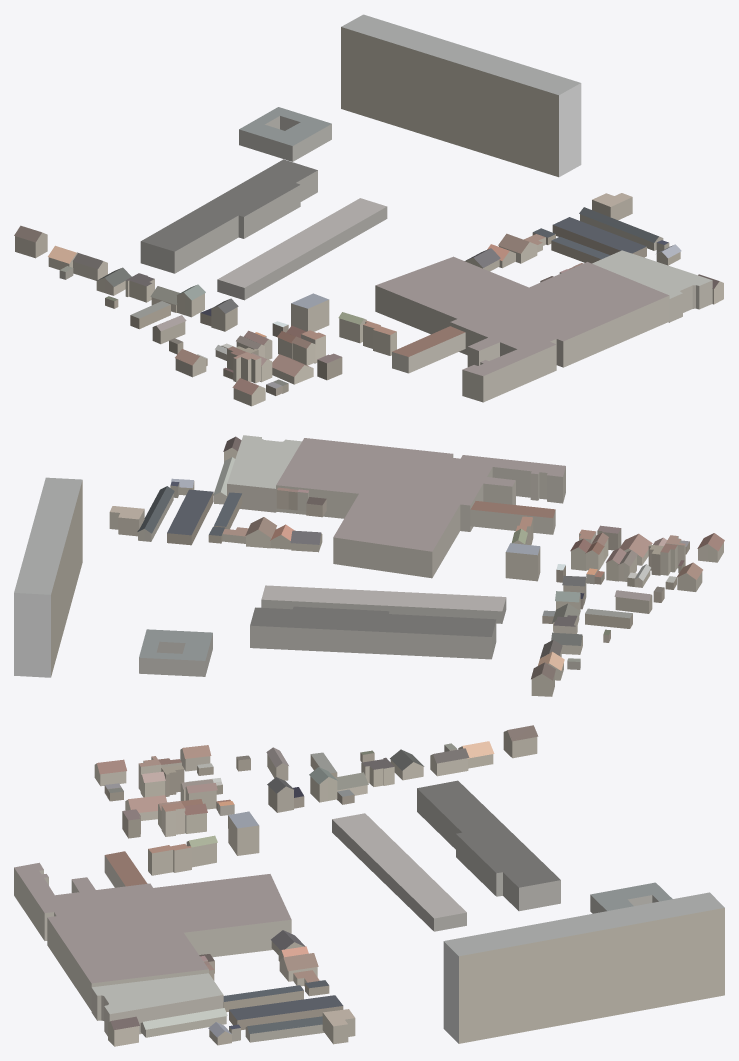
3 views of the same model, one above another, from view 1: azimuth 30°, elevation 25°; view 2: azimuth 150°, elevation 25°; view 3: azimuth 270°, elevation 25° (orthographic). The views are drawn at different scales.
Visible parts, largest first — view 1: tuile; view 2: tuile; view 3: tuile.
Part boxes in pixels (left/top/right/bottom): tuile: left=14, top=14, right=723, bottom=406; tuile: left=14, top=435, right=724, bottom=696; tuile: left=14, top=725, right=724, bottom=1046.
Bounding box in the file's own units: 264 × 44.34 × 285.
